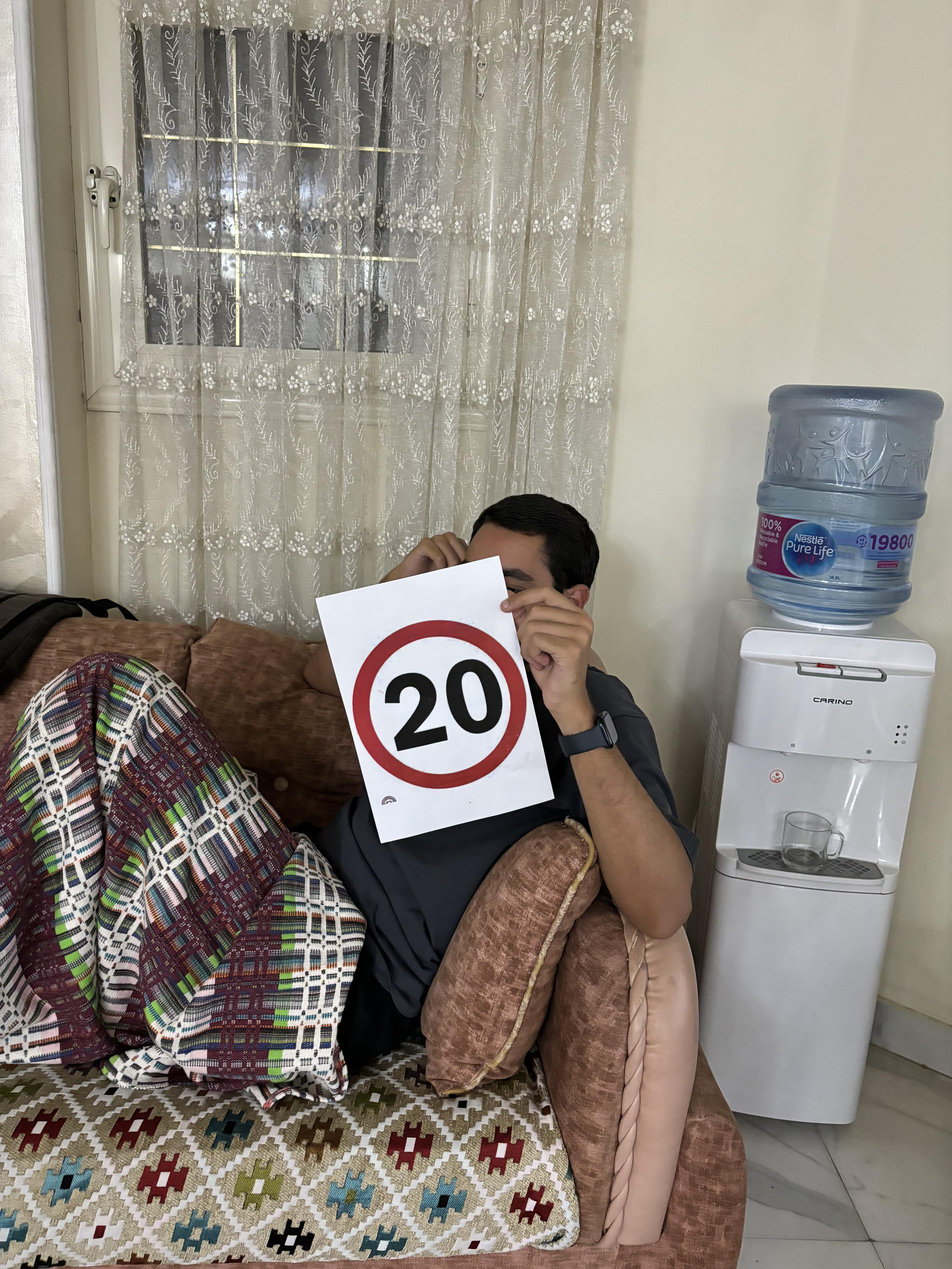20-Speed: (347, 614, 532, 792)
